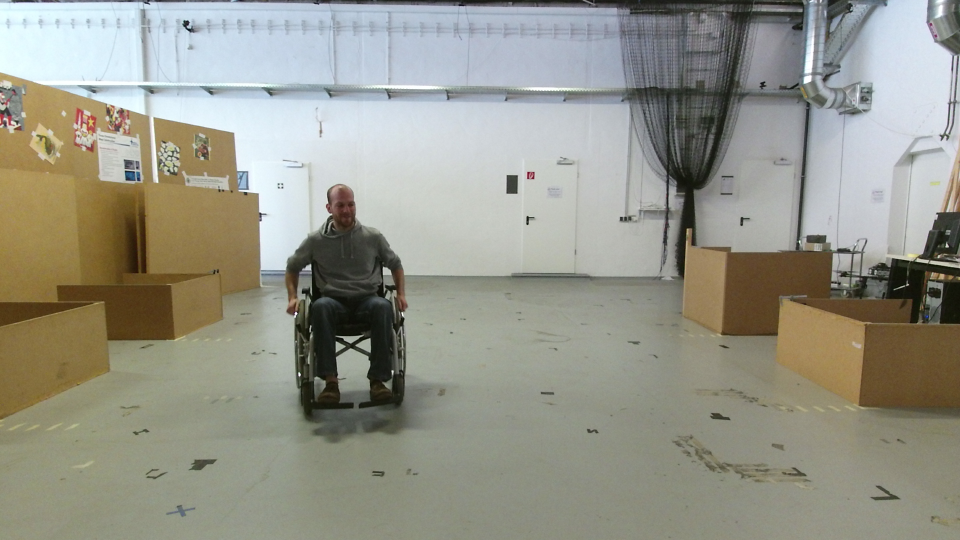wheelchair: (282, 185, 416, 415)
